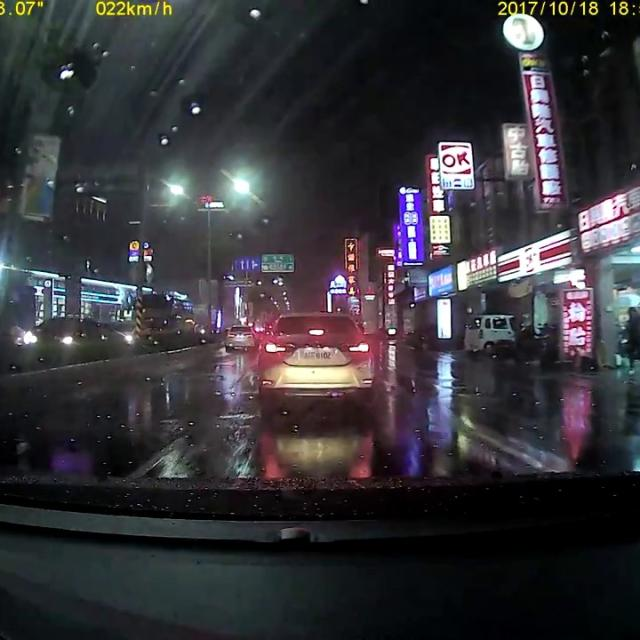Car: (253, 307, 374, 413), (25, 313, 111, 352), (461, 309, 519, 356), (222, 322, 256, 349)
